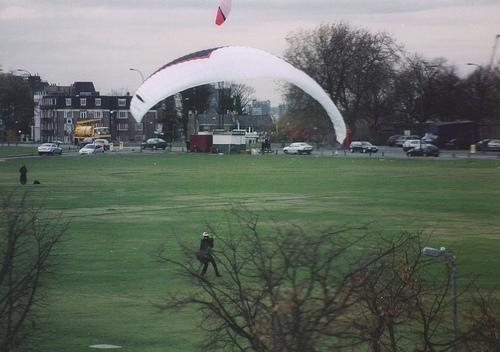car: (406, 144, 440, 158), (140, 137, 168, 150), (349, 141, 379, 153), (38, 143, 63, 157), (283, 143, 313, 154), (446, 138, 472, 150), (402, 139, 426, 152), (395, 136, 420, 146), (475, 138, 492, 152), (79, 144, 97, 156), (386, 135, 402, 147), (92, 138, 110, 147), (487, 140, 500, 152)
truck: (72, 118, 110, 144)
